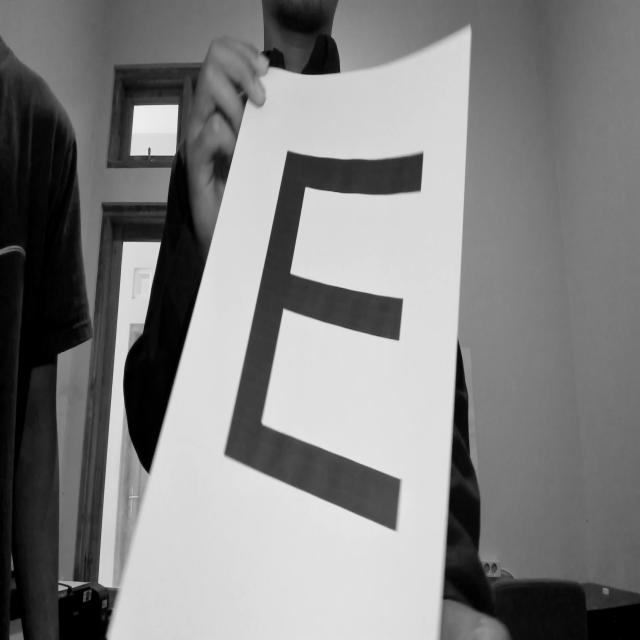e: (216, 137, 437, 570)
